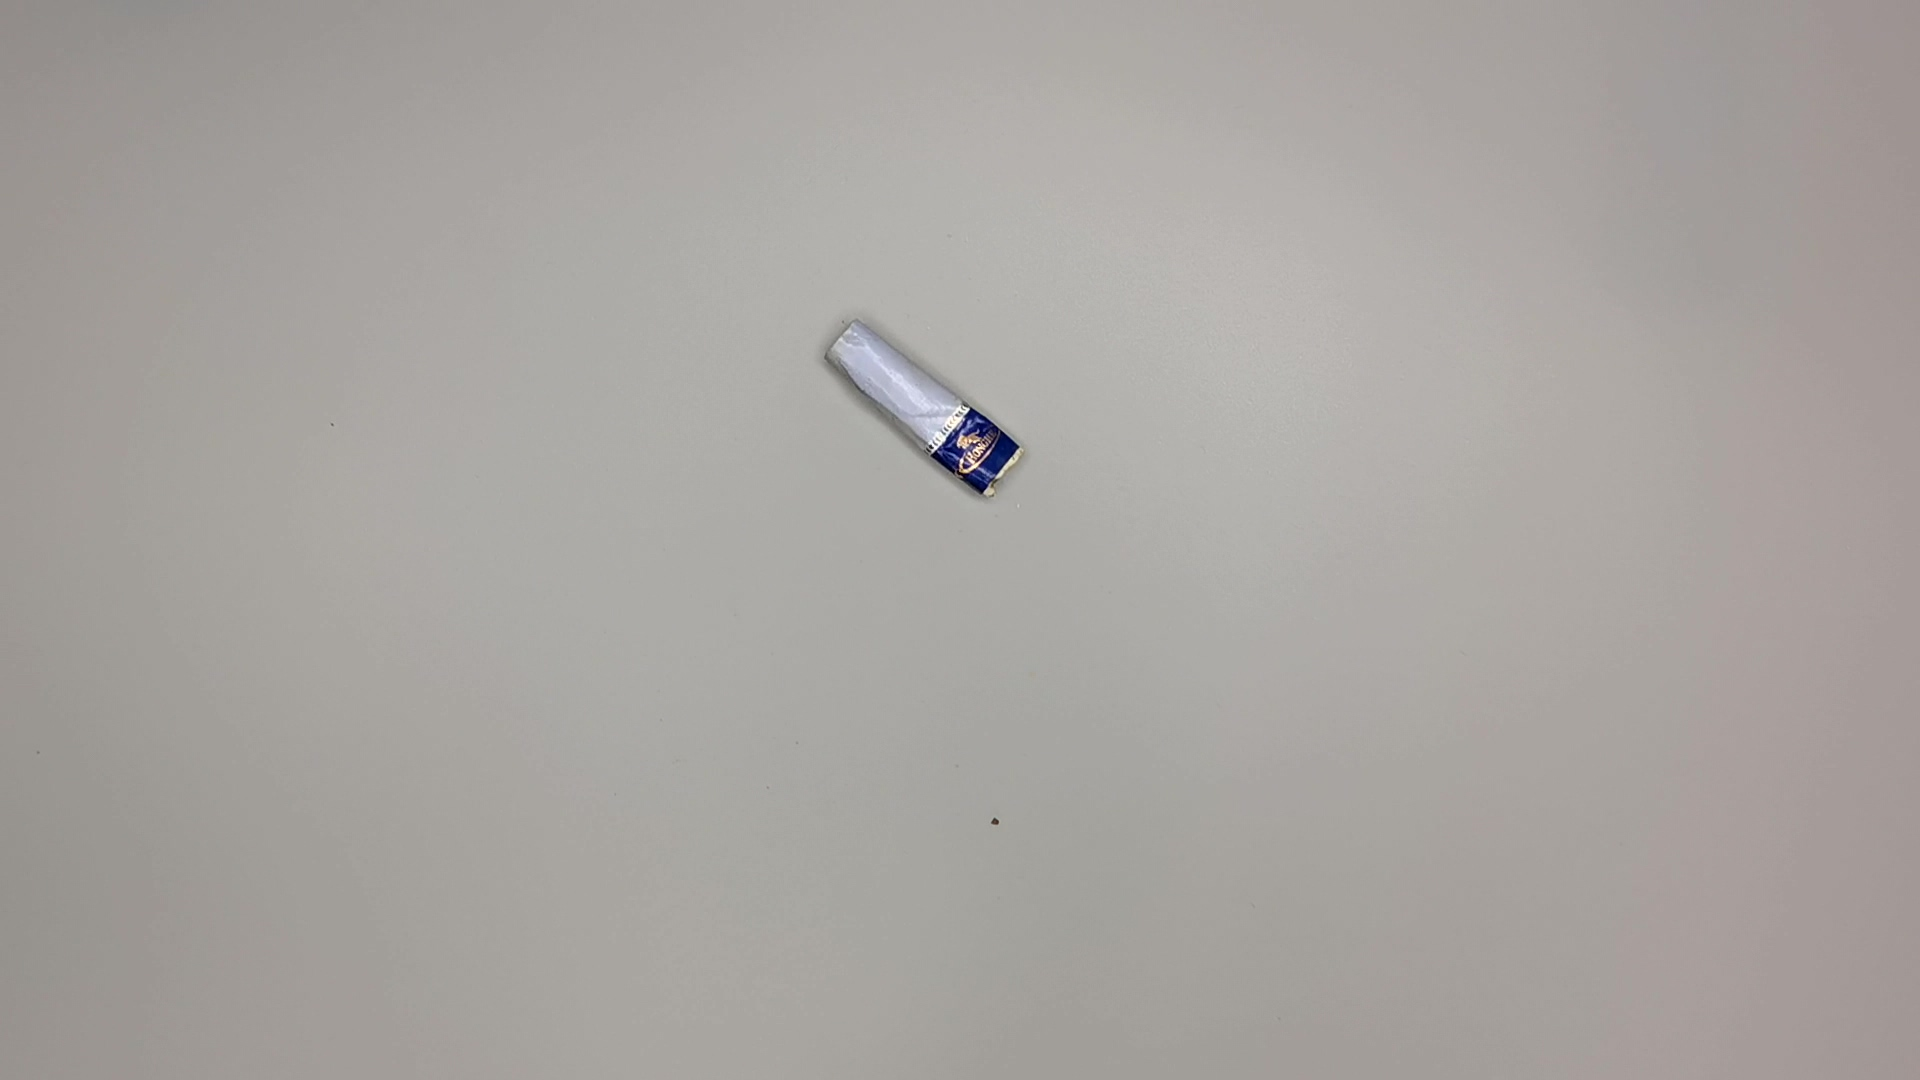cigarette: (825, 315, 1029, 504)
